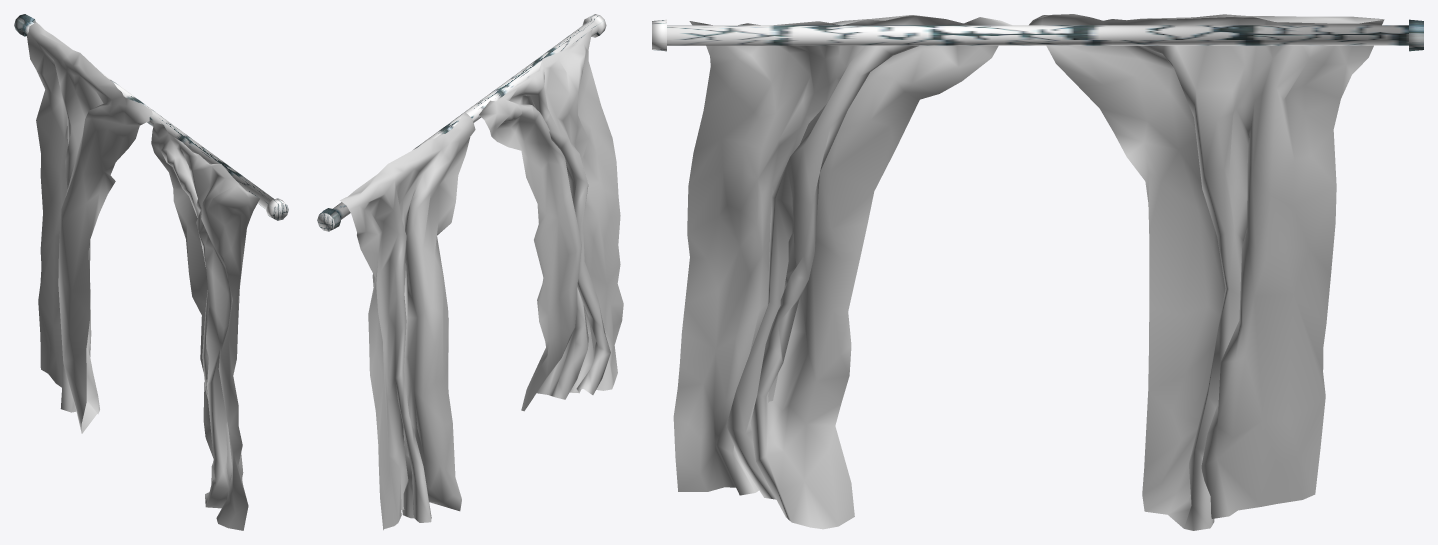
File: Curtains.fbx
The picture shows the model from 3 angles, left to right: view 1: azimuth 30°, elevation 25°; view 2: azimuth 150°, elevation 25°; view 3: azimuth 270°, elevation 25°; orthographic projection. The views are drawn at different scales.
Parts seen in each view (by area): view 1: Curtains; view 2: Curtains; view 3: Curtains.
Part boxes in pixels (x1=…): Curtains: x1=14, y1=14, x2=288, y2=530; Curtains: x1=317, y1=14, x2=623, y2=530; Curtains: x1=652, y1=14, x2=1423, y2=530.
Bounding box in the file's own units: 15.2 × 101 × 135.
